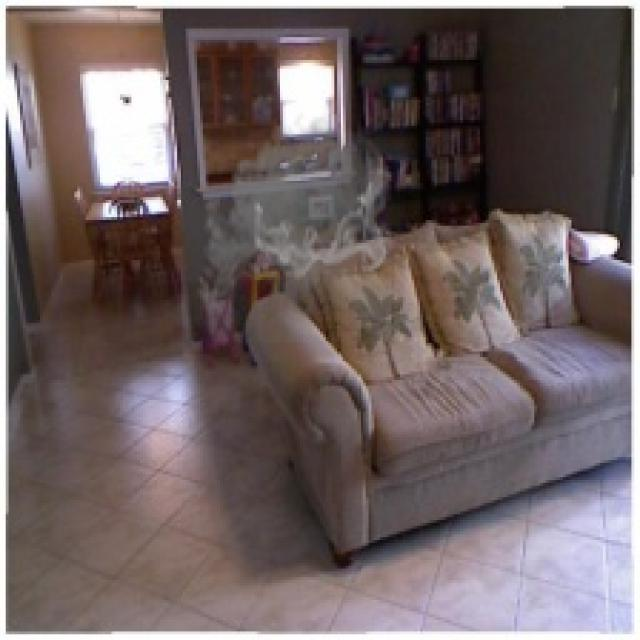smoke: (192, 106, 394, 343)
